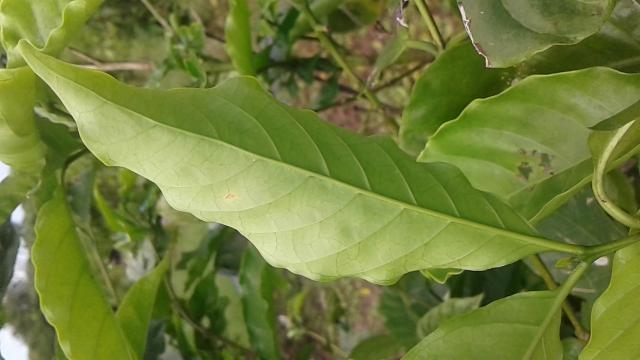healthy: (19, 44, 560, 286)
